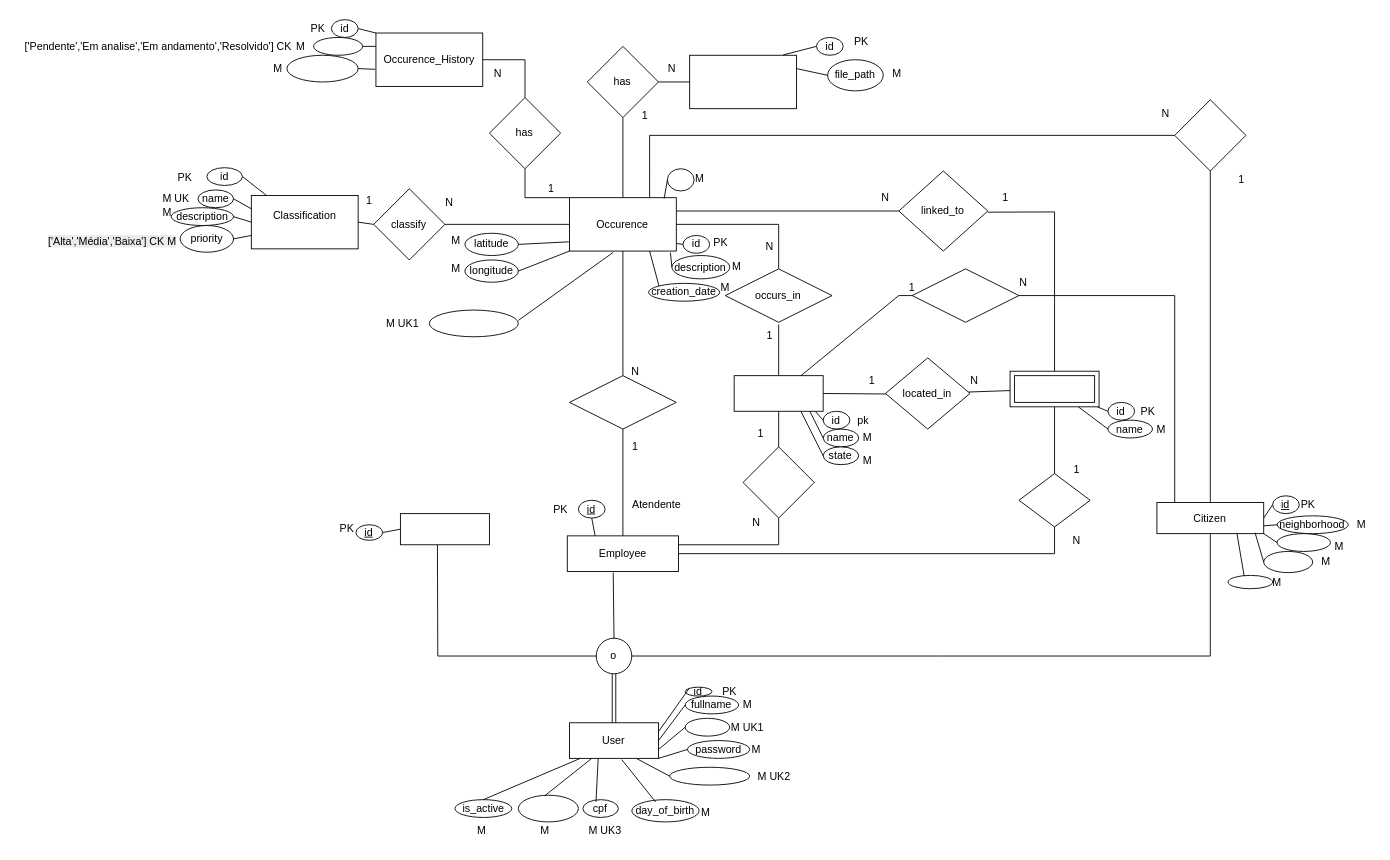
Image size: 1390x860. Some labels were removed from this diagram. The box of each missing label's shape, as (x1, y1, x2, y2) in pixels:
address: (1263, 551, 1313, 573)
Administrator: (400, 513, 489, 545)
CEP: (1227, 574, 1273, 589)
change_date: (286, 54, 358, 82)
City: (733, 375, 823, 411)
created_at: (517, 794, 578, 822)
Department: (1009, 370, 1099, 407)
email: (684, 717, 730, 736)
live_in: (911, 268, 1019, 322)
manages: (569, 375, 676, 429)
Media: (689, 54, 796, 109)
number: (1276, 533, 1330, 551)
performs: (1174, 99, 1246, 171)
phone_number: (669, 766, 750, 785)
protocol_number: (428, 309, 518, 337)
status: (313, 37, 363, 55)
type: (667, 168, 694, 191)
work _on: (1018, 473, 1090, 527)
work_in: (742, 446, 814, 518)
